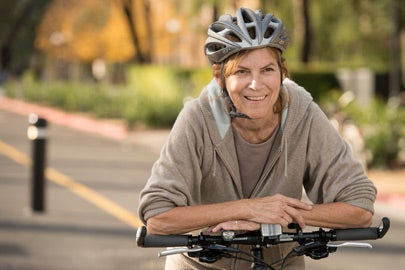helmet: (204, 7, 288, 119)
